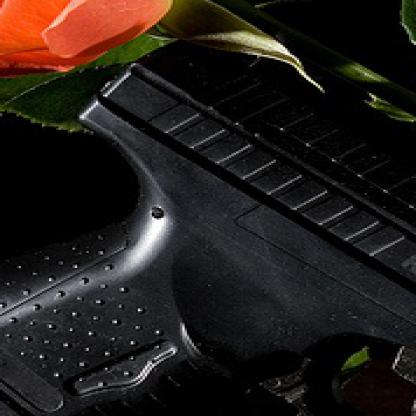gun: (0, 60, 414, 414)
